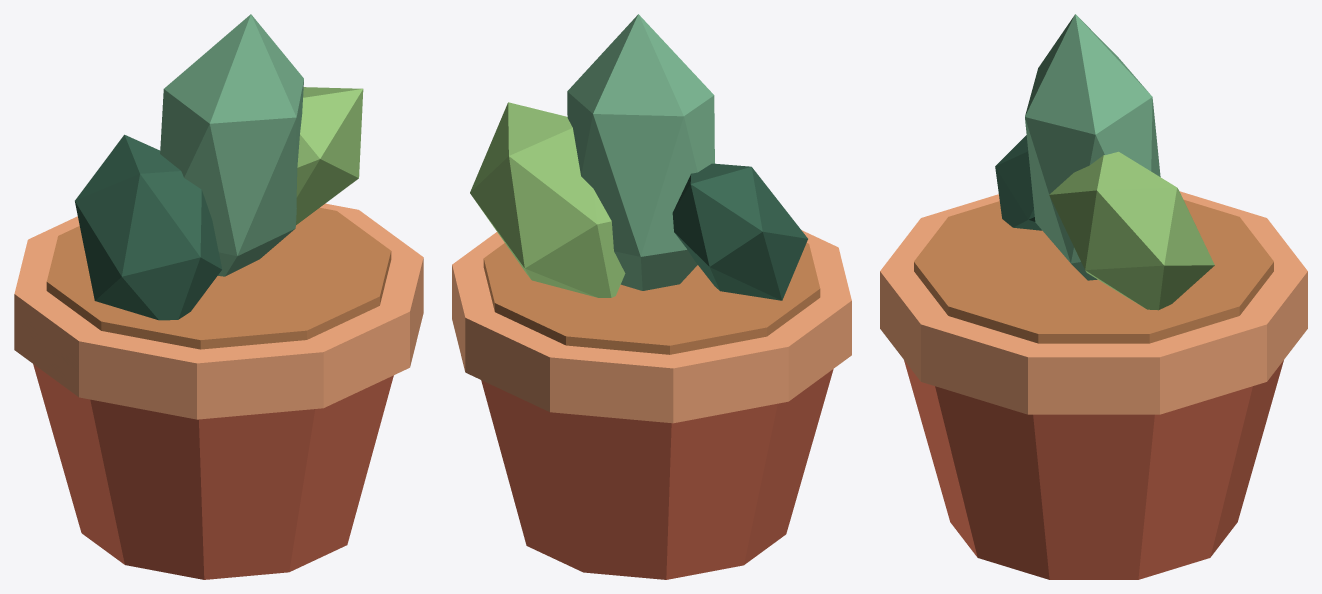
The model's file is planter.fbx.
3 views of the same model, side by side, from view 1: azimuth 30°, elevation 25°; view 2: azimuth 150°, elevation 25°; view 3: azimuth 270°, elevation 25° (orthographic). The views are drawn at different scales.
Parts seen in each view (by area): view 1: Terracotta bowl, Raised rim, Tall leaf, Soil, Left leaf, Right leaf; view 2: Terracotta bowl, Raised rim, Tall leaf, Soil, Right leaf, Left leaf; view 3: Terracotta bowl, Raised rim, Soil, Tall leaf, Right leaf, Left leaf.
Part boxes in pixels (x1,y1,x2,y2): Terracotta bowl: (33,364,393,579); Raised rim: (14,203,423,419); Tall leaf: (160,14,303,276); Soil: (46,207,391,349); Left leaf: (75,134,222,320); Right leaf: (296,87,363,224); Terracotta bowl: (481,369,833,579); Raised rim: (452,230,851,423); Tall leaf: (567,14,714,290); Soil: (483,243,820,354); Right leaf: (470,102,625,297); Left leaf: (672,163,807,300); Terracotta bowl: (904,360,1283,579); Raised rim: (880,191,1307,414); Soil: (914,200,1273,343); Tall leaf: (1025,14,1160,280); Right leaf: (1049,151,1214,310); Left leaf: (995,135,1041,230).
Bounding box in the file's own units: 48.12 × 67.8 × 50.6.
